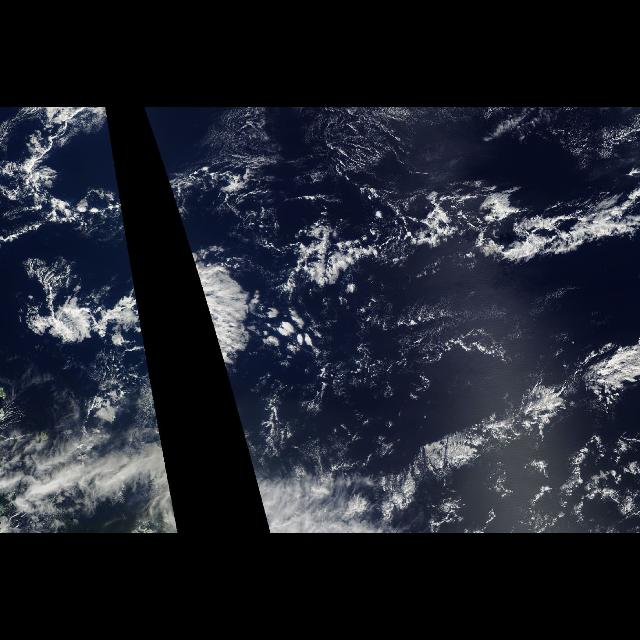Fish: (165, 172, 639, 364), (37, 172, 149, 364)
Sugar: (312, 294, 532, 442), (197, 107, 395, 227)
